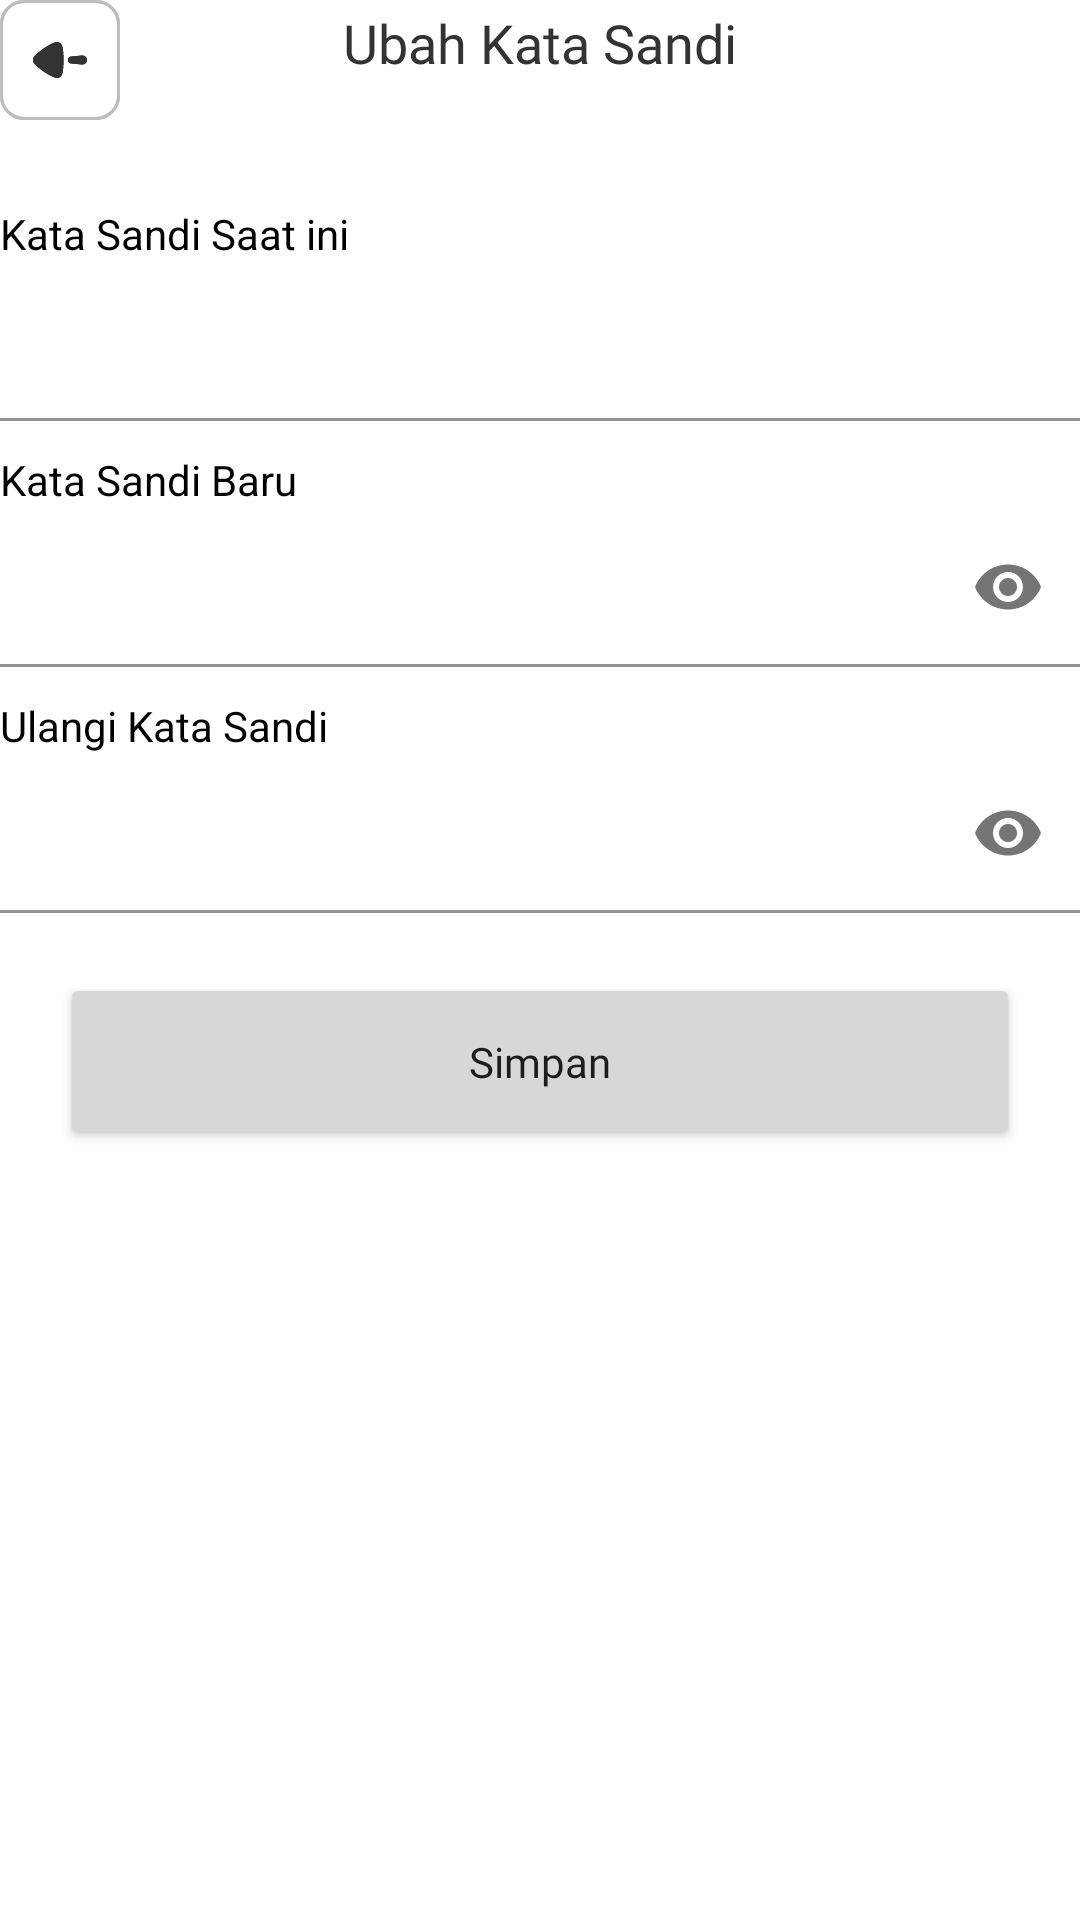

Point at icon controls on the screen. Image size 1080 x 1920, points as point (x, y).
back: point (60, 60)
